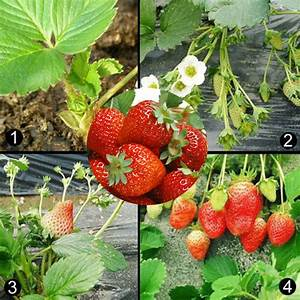Fresa: (107, 139, 171, 200), (115, 97, 177, 154), (219, 178, 263, 239), (266, 208, 300, 249), (197, 199, 228, 242), (237, 213, 268, 254), (185, 227, 214, 263)
